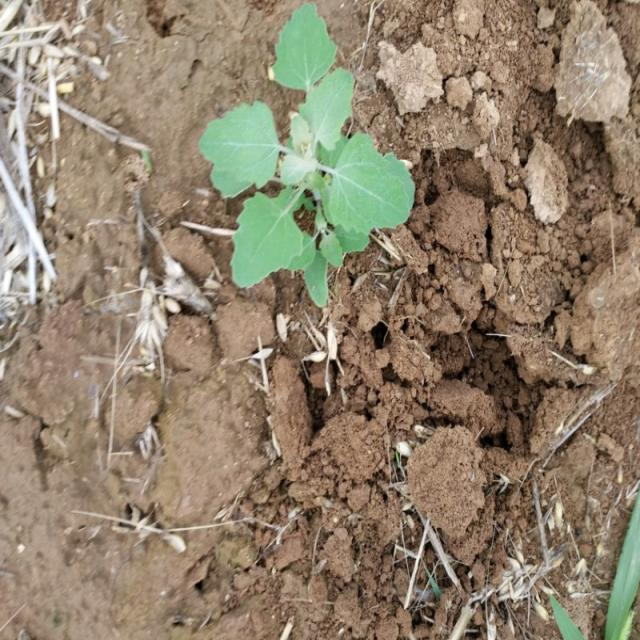goosefoots: (178, 29, 424, 306)
